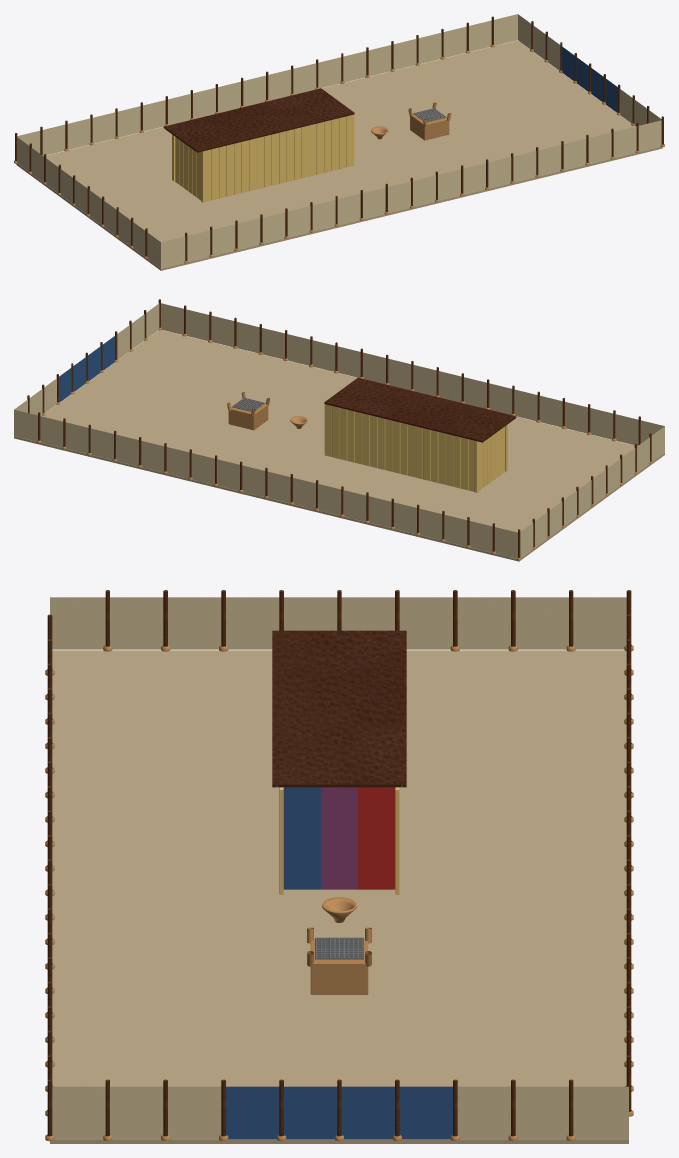
The model's file is tabernaculo.glb.
The picture shows the model from 3 angles, top to bottom: view 1: azimuth 30°, elevation 25°; view 2: azimuth 150°, elevation 25°; view 3: azimuth 270°, elevation 25°; orthographic projection. The views are drawn at different scales.
Visible parts, largest first — view 1: Solo do pátio, Linho do pátio, Linho do pátio.001, Camada de cobertura, Linho transversal, Cortina da entrada do pátio, Linho junto à entrada.001, Linho junto à entrada, Altar, Tábua revestida.017, Tábua revestida.013, Tábua revestida.019 (+16 smaller); view 2: Solo do pátio, Linho do pátio.001, Linho do pátio, Camada de cobertura, Linho transversal, Cortina da entrada do pátio, Linho junto à entrada, Altar, Linho junto à entrada.001, Tábua revestida.023, Tábua revestida.025, Tábua revestida.030 (+16 smaller); view 3: Solo do pátio, Linho transversal, Camada de cobertura, Cortina da entrada do pátio, Linho junto à entrada.001, Linho junto à entrada, Entrada azul, Entrada escarlata, Entrada púrpura, Altar.
Boxes of the visible parts, x1,y1,x2,y2 form: Solo do pátio: (16, 40, 662, 270); Linho do pátio: (161, 120, 661, 268); Linho do pátio.001: (17, 14, 517, 155); Camada de cobertura: (163, 88, 354, 152); Linho transversal: (17, 137, 160, 268); Cortina da entrada do pátio: (562, 46, 617, 112); Linho junto à entrada.001: (518, 14, 560, 69); Linho junto à entrada: (619, 89, 661, 126); Altar: (410, 109, 449, 140); Tábua revestida.017: (331, 118, 339, 170); Tábua revestida.013: (301, 125, 309, 177); Tábua revestida.019: (346, 114, 354, 166); Solo do pátio: (14, 330, 664, 561); Linho do pátio.001: (14, 409, 517, 558); Linho do pátio: (161, 303, 664, 445); Camada de cobertura: (324, 377, 516, 442); Linho transversal: (520, 426, 664, 557); Cortina da entrada do pátio: (59, 336, 115, 401); Linho junto à entrada: (117, 303, 159, 359); Altar: (228, 399, 268, 430); Linho junto à entrada.001: (14, 378, 56, 415); Tábua revestida.023: (445, 433, 453, 486); Tábua revestida.025: (430, 430, 438, 482); Tábua revestida.030: (392, 421, 400, 473); Solo do pátio: (50, 650, 628, 1143); Linho transversal: (50, 597, 626, 649); Camada de cobertura: (272, 630, 406, 787); Cortina da entrada do pátio: (226, 1086, 452, 1139); Linho junto à entrada.001: (457, 1086, 628, 1139); Linho junto à entrada: (52, 1086, 221, 1139); Entrada azul: (283, 787, 320, 889); Entrada escarlata: (358, 787, 395, 889); Entrada púrpura: (321, 787, 357, 889); Altar: (310, 939, 368, 994).
Size of the model in its own units: 50.4 by 5.4 by 25.4.
11 materials, 4 textured.
